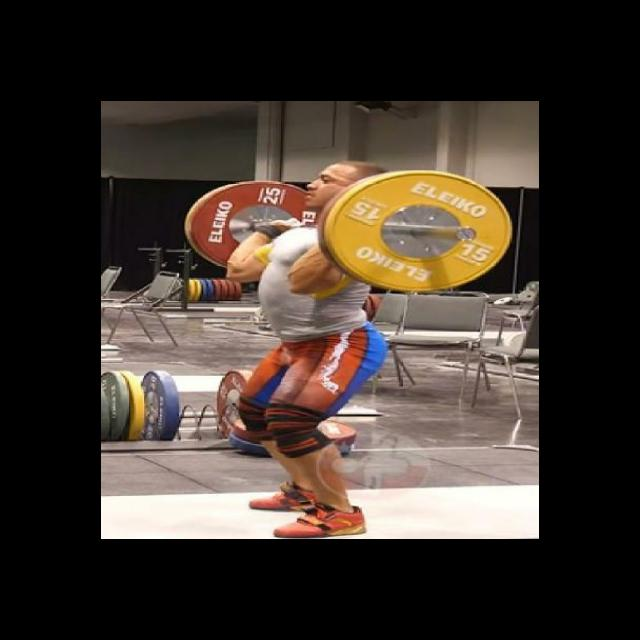barbell: (328, 169, 516, 296)
